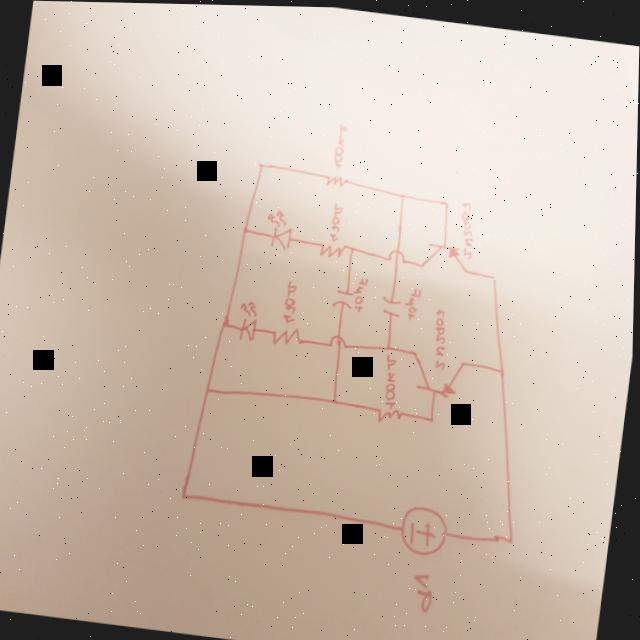capacitor: (379, 289, 405, 317), (331, 285, 356, 312)
crossover: (387, 246, 407, 264), (330, 331, 348, 349)
diode: (262, 205, 296, 251), (235, 296, 261, 343)
junction: (179, 487, 190, 501), (498, 363, 509, 376), (255, 159, 266, 171), (507, 531, 518, 543), (202, 383, 212, 396), (397, 188, 408, 199), (240, 223, 250, 235), (220, 317, 229, 329), (331, 394, 340, 406), (489, 269, 498, 281), (428, 412, 437, 423), (441, 195, 450, 206), (384, 341, 393, 350), (349, 242, 356, 253)
resistor: (270, 321, 304, 348), (375, 403, 407, 425), (319, 239, 344, 259), (323, 171, 349, 188)
source: (397, 499, 453, 559)
text: (455, 197, 480, 259), (429, 305, 453, 368), (410, 568, 439, 614), (279, 276, 299, 325), (330, 118, 348, 172), (382, 357, 401, 408), (399, 283, 424, 321), (350, 272, 370, 317), (327, 201, 345, 245)
transistor: (406, 346, 470, 400), (417, 238, 475, 276)
